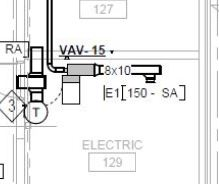VAV: (61, 62, 102, 87)
